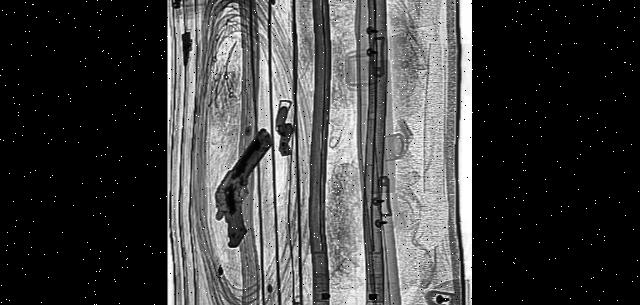Gun: (211, 109, 284, 260)
